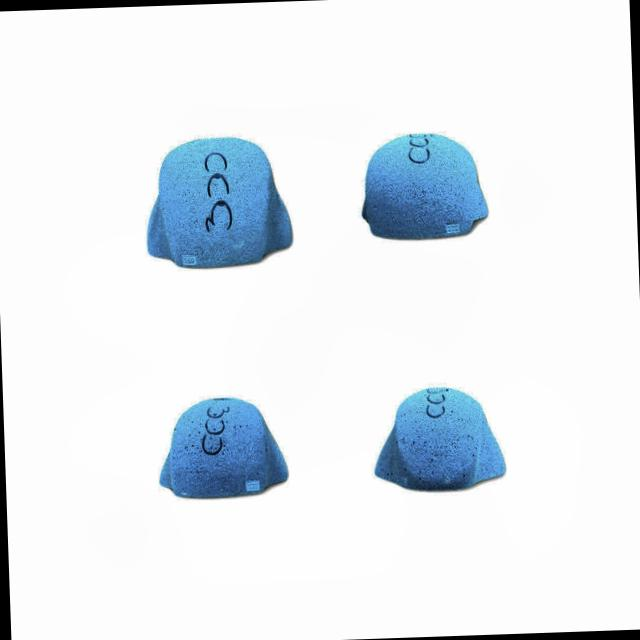Hold: (144, 137, 302, 271), (157, 392, 294, 504), (357, 129, 491, 242), (371, 384, 509, 490)
